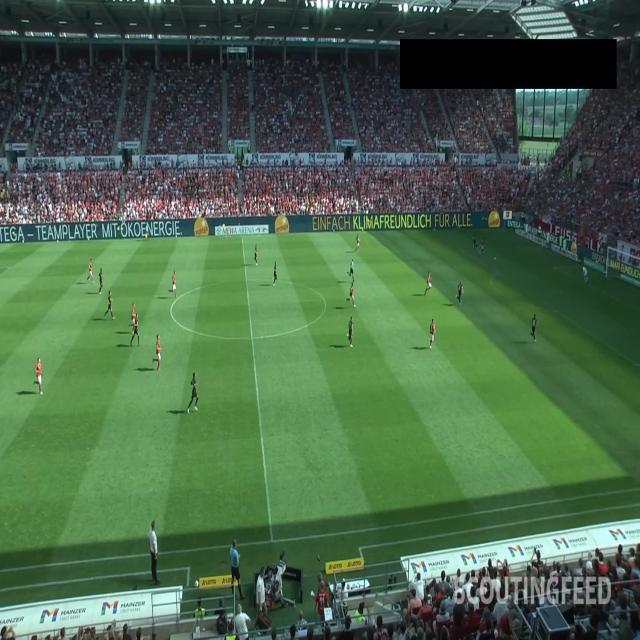ball: (493, 256, 496, 261)
